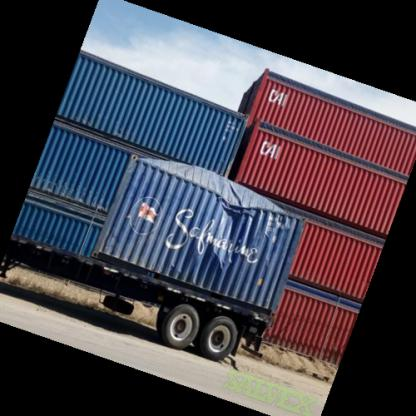Damage: (134, 155, 291, 274)
